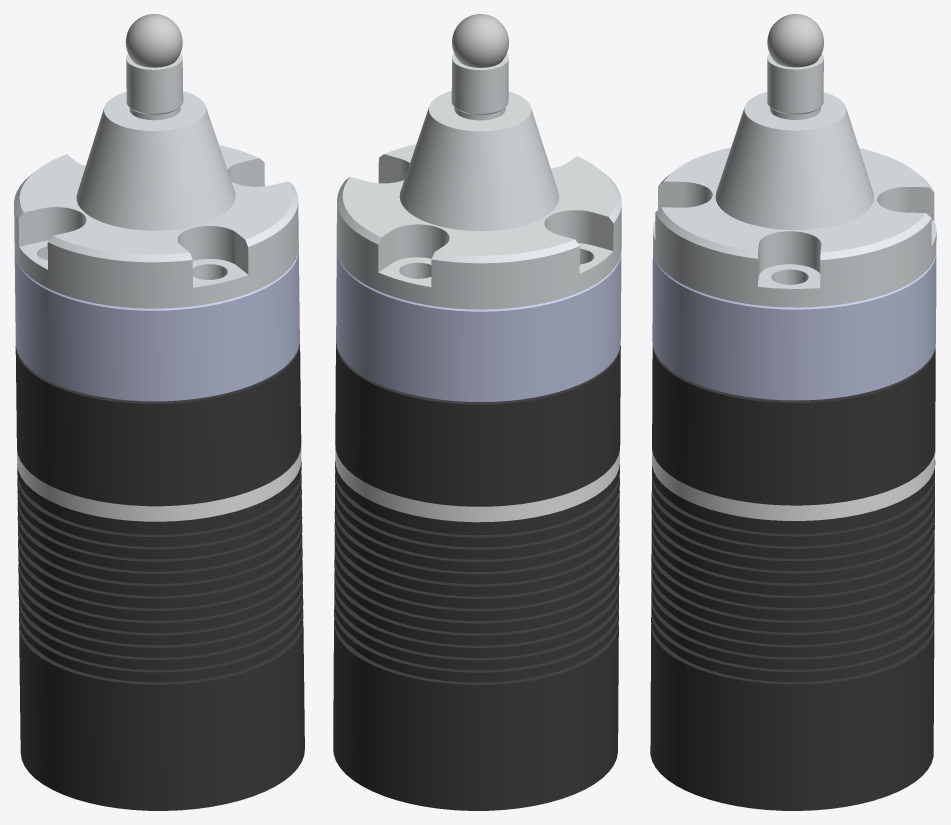
The model's file is Sixth.fbx.
3 views of the same model, side by side, from view 1: azimuth 30°, elevation 25°; view 2: azimuth 150°, elevation 25°; view 3: azimuth 270°, elevation 25° (orthographic).
Parts seen in each view (by area): view 1: color, color-6, color-4, color-2, color-7; view 2: color, color-6, color-4, color-2, color-7; view 3: color, color-6, color-4, color-2, color-7.
Boxes of the visible parts, x1,y1,x2,y2 form: color: (15, 342, 304, 810); color-6: (14, 53, 298, 308); color-4: (14, 250, 299, 401); color-2: (17, 445, 301, 521); color-7: (125, 14, 182, 67); color: (333, 343, 620, 810); color-6: (336, 53, 621, 309); color-4: (336, 249, 621, 401); color-2: (335, 446, 619, 522); color-7: (452, 14, 508, 67); color: (650, 345, 935, 810); color-6: (653, 53, 936, 307); color-4: (652, 251, 936, 400); color-2: (652, 450, 935, 520); color-7: (767, 14, 823, 67).
Size of the model in its own units: 5.1 by 14.32 by 5.04.
